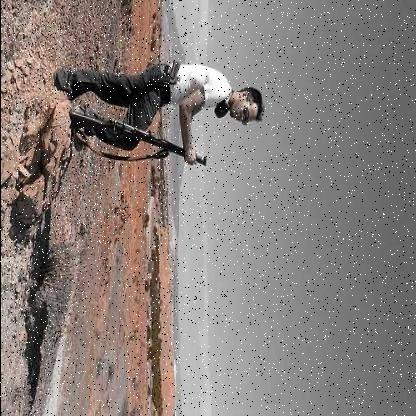rifle: (67, 97, 208, 181)
